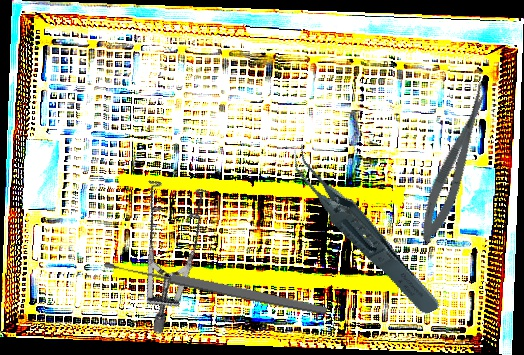Micro Scissor: (411, 79, 501, 247)
Speculum: (75, 157, 253, 337)
Surgical Spoon: (103, 257, 328, 318)
Tissue Forceps: (286, 121, 443, 337)
